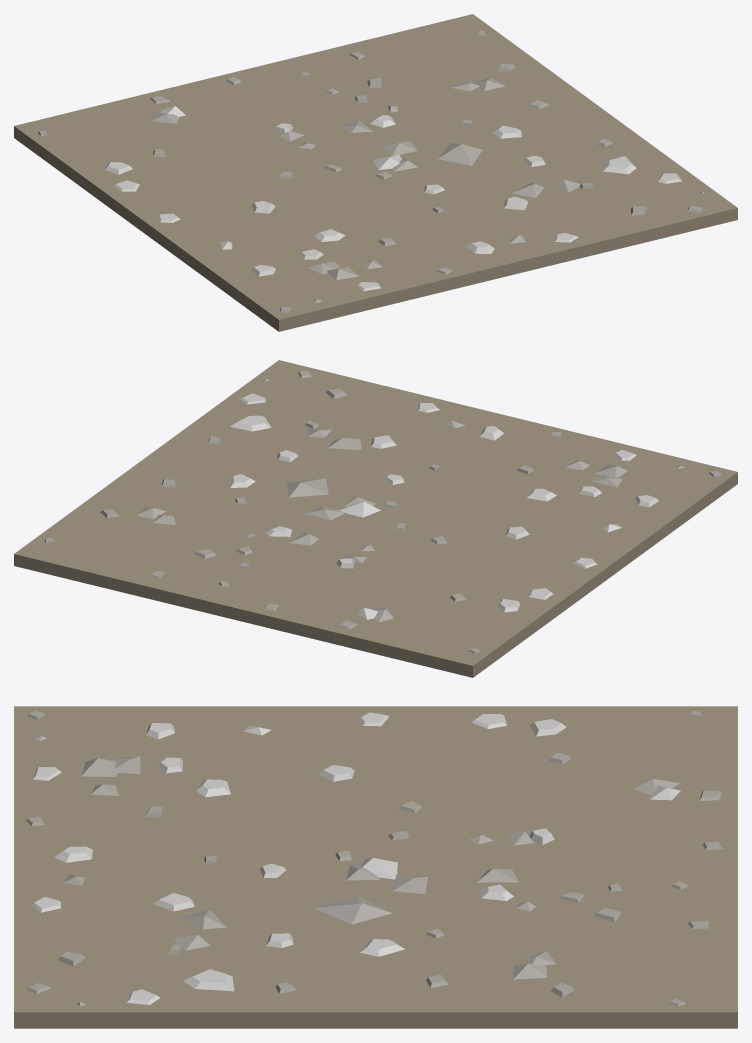
The picture shows the model from 3 angles, top to bottom: view 1: azimuth 30°, elevation 25°; view 2: azimuth 150°, elevation 25°; view 3: azimuth 270°, elevation 25°; orthographic projection. The views are drawn at different scales.
Parts seen in each view (by area): view 1: patch_0; view 2: patch_0; view 3: patch_0.
Part boxes in pixels (x1,y1,x2,y2): patch_0: (14, 14, 737, 331); patch_0: (14, 360, 737, 677); patch_0: (14, 706, 737, 1028).
Size of the model in its own units: 2.6 by 0.1051 by 2.6.
